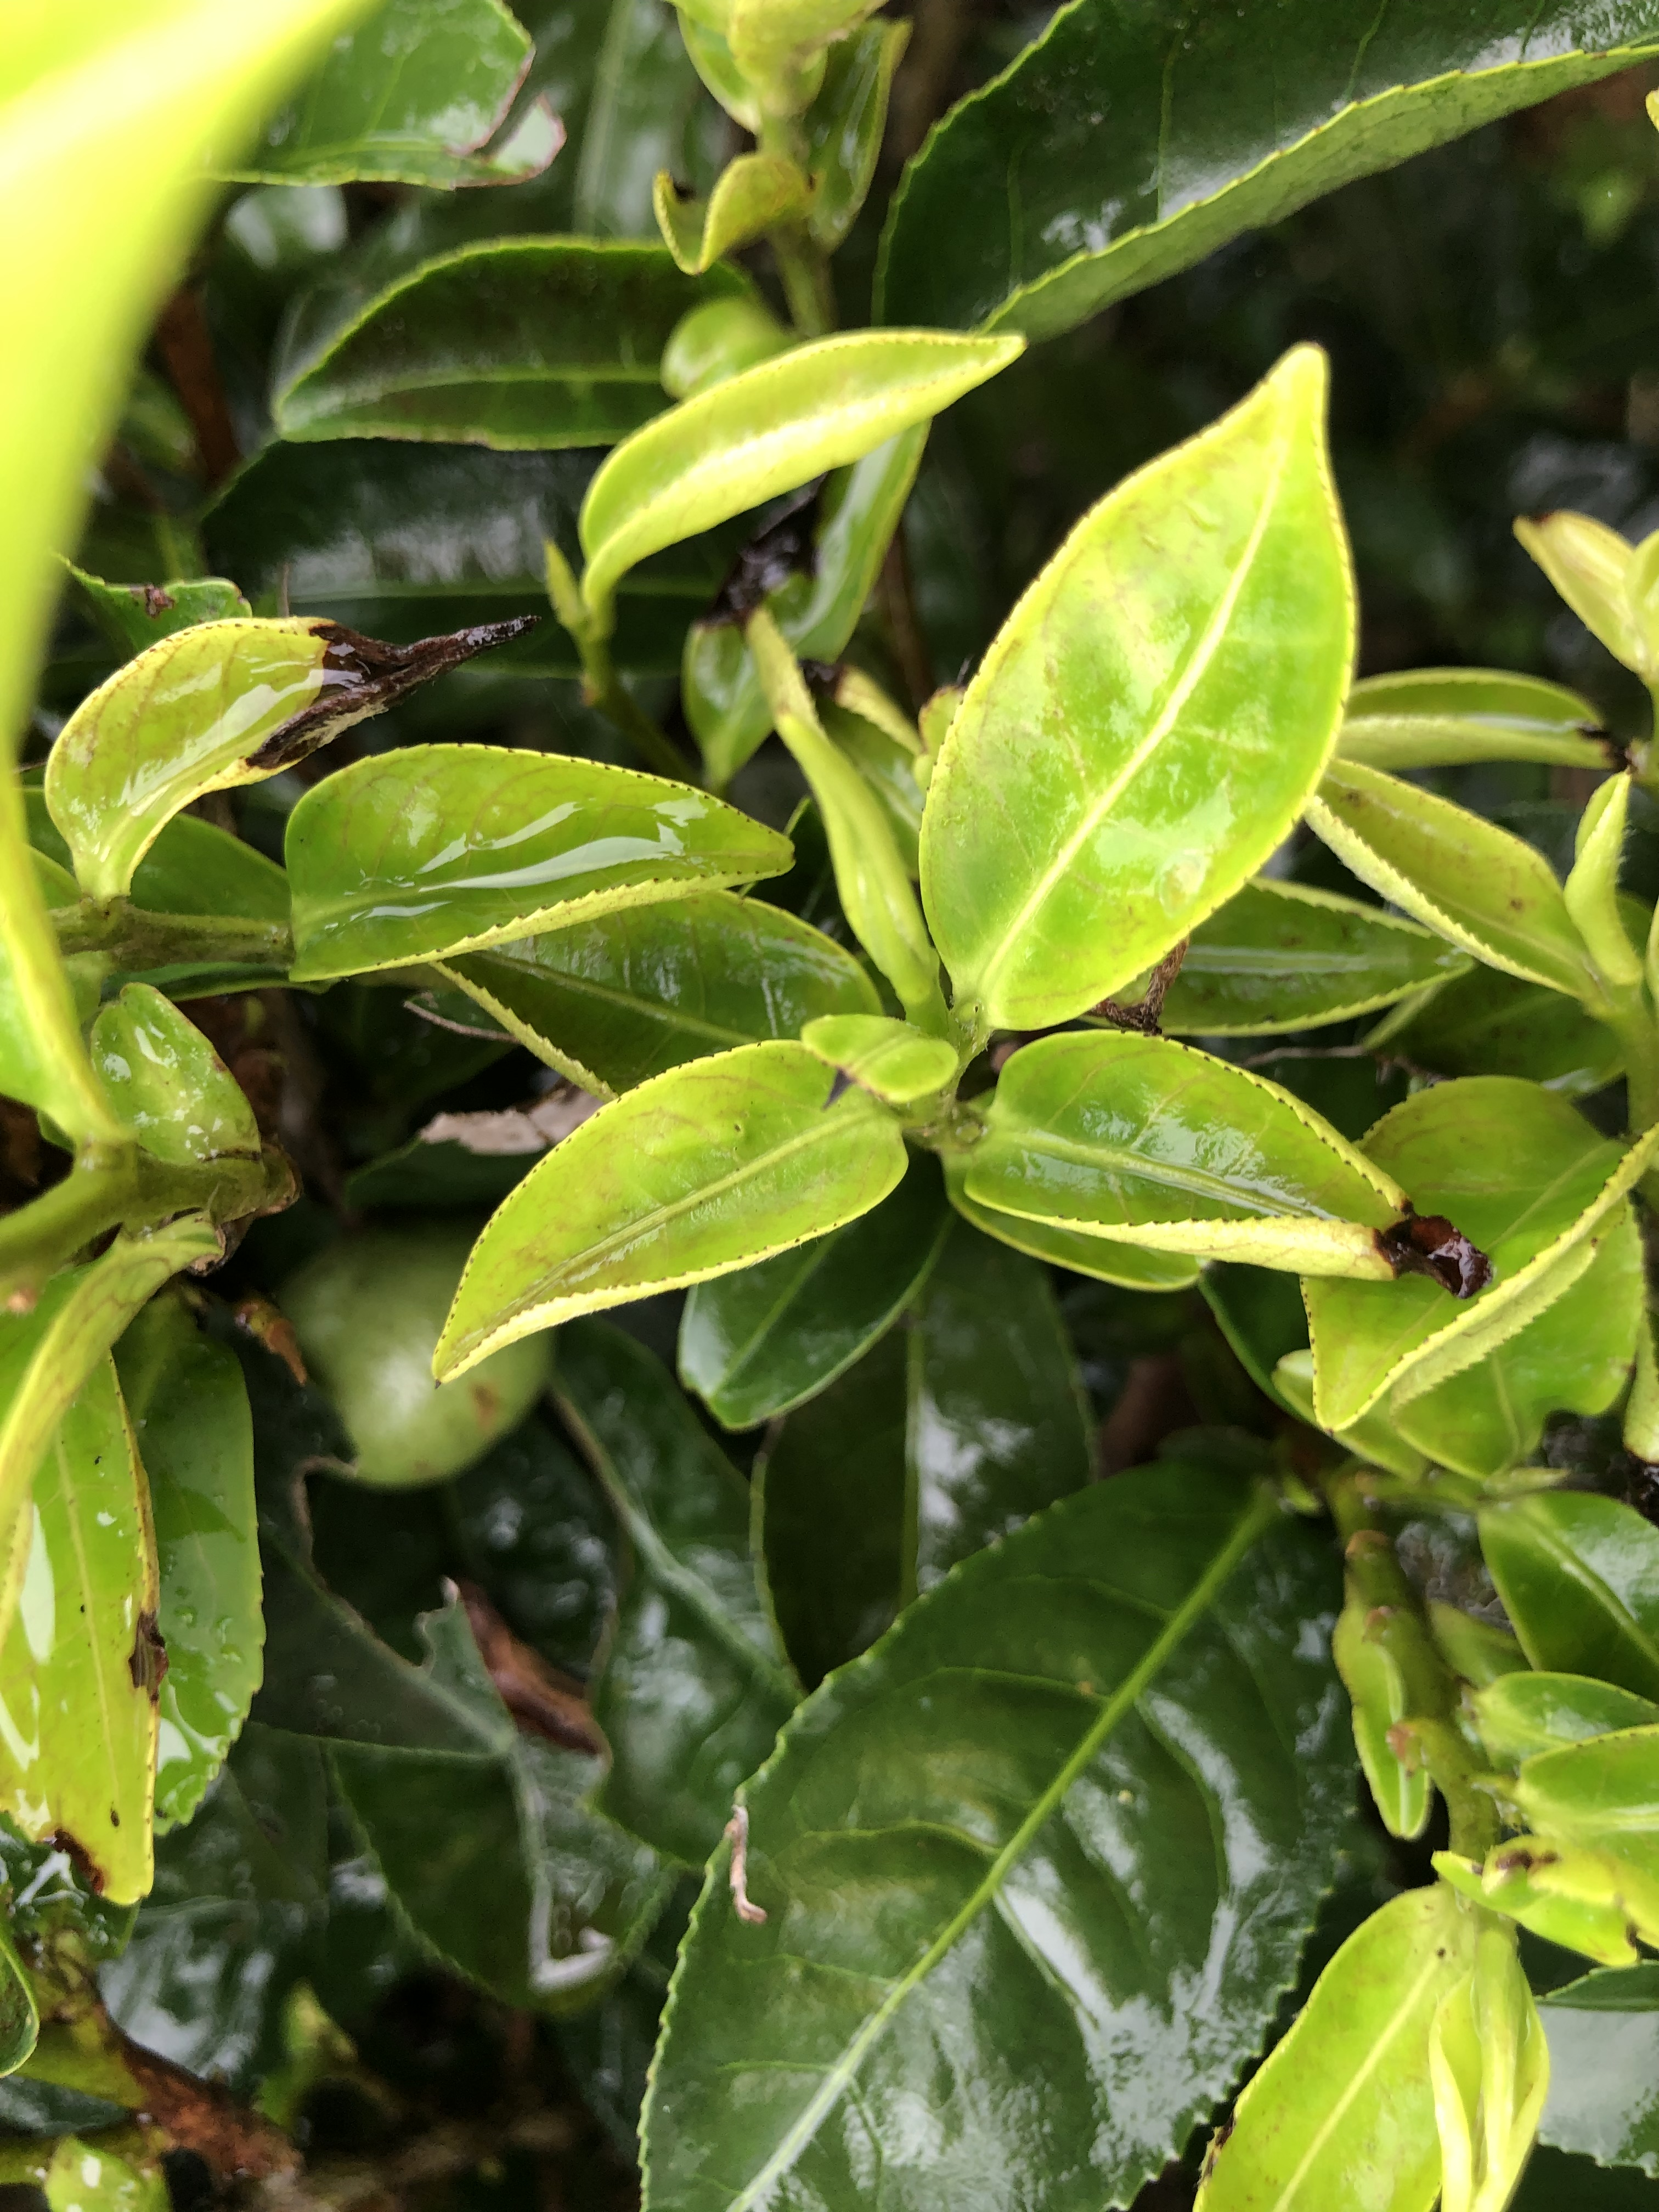formosa: (411, 1031, 915, 1378)
